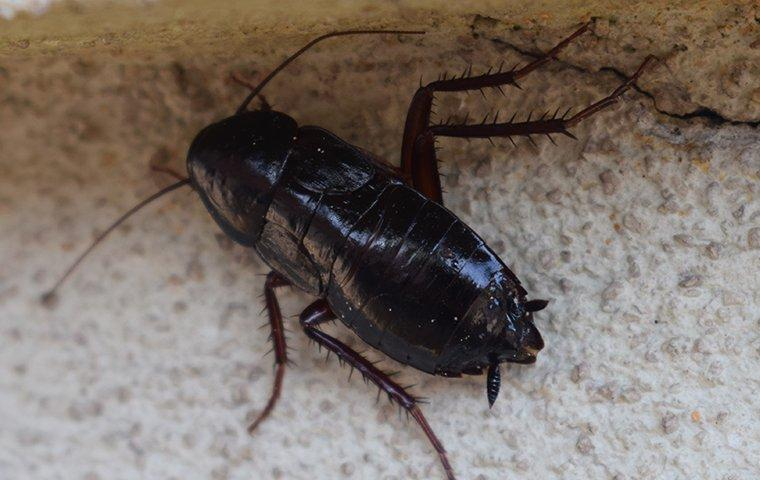cockroach: (188, 104, 545, 388)
